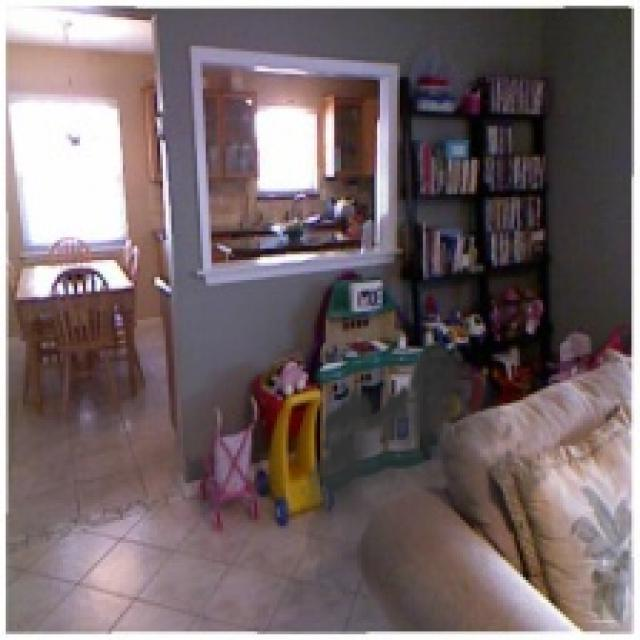Smoke: (300, 334, 549, 609)
